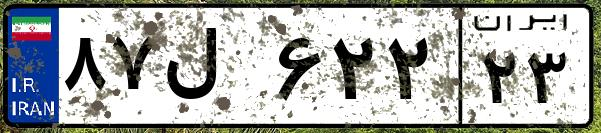2: (385, 28, 445, 110), (330, 28, 385, 110), (475, 38, 525, 113)
3: (525, 38, 570, 115)
6: (270, 28, 330, 110)
7: (110, 28, 158, 98)
8: (57, 26, 110, 100)
ل: (158, 20, 270, 120)
